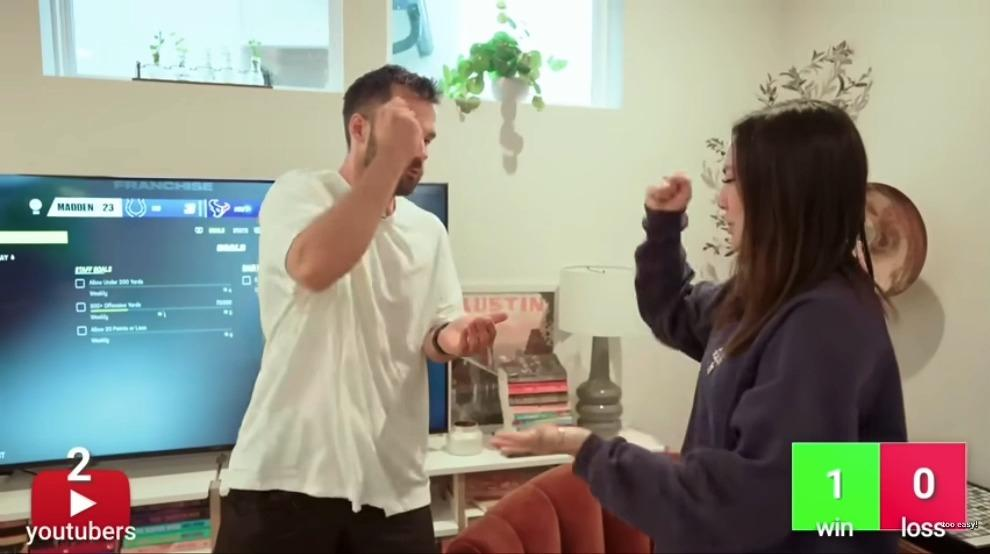Rock: (375, 99, 423, 184), (644, 174, 695, 215)
